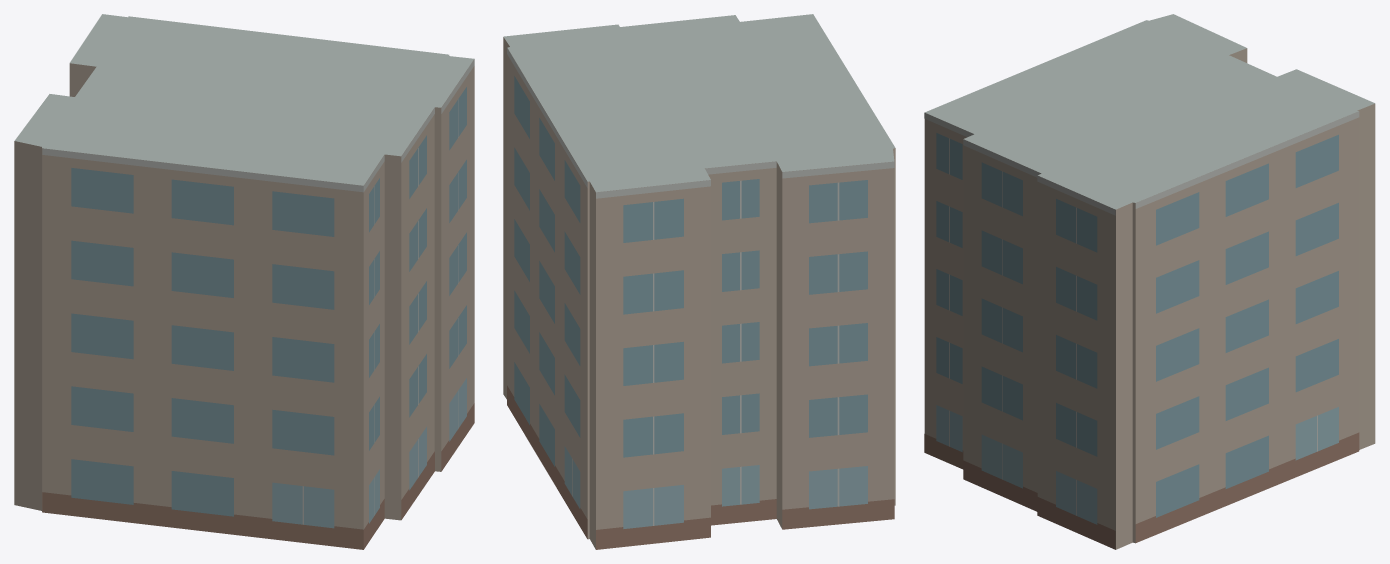
Rendered from survey-upis-32885061.glb.
The picture shows the model from 3 angles, left to right: view 1: azimuth 30°, elevation 25°; view 2: azimuth 150°, elevation 25°; view 3: azimuth 270°, elevation 25°; orthographic projection. The views are drawn at different scales.
Parts seen in each view (by area): view 1: survey-upis-32885061.tmp; view 2: survey-upis-32885061.tmp; view 3: survey-upis-32885061.tmp.
Part boxes in pixels (box(x1,y1,x2,y2)): survey-upis-32885061.tmp: box(14, 14, 474, 549); survey-upis-32885061.tmp: box(503, 14, 895, 549); survey-upis-32885061.tmp: box(924, 14, 1375, 549).
Size of the model in its own units: 16.66 by 13.5 by 16.23.
